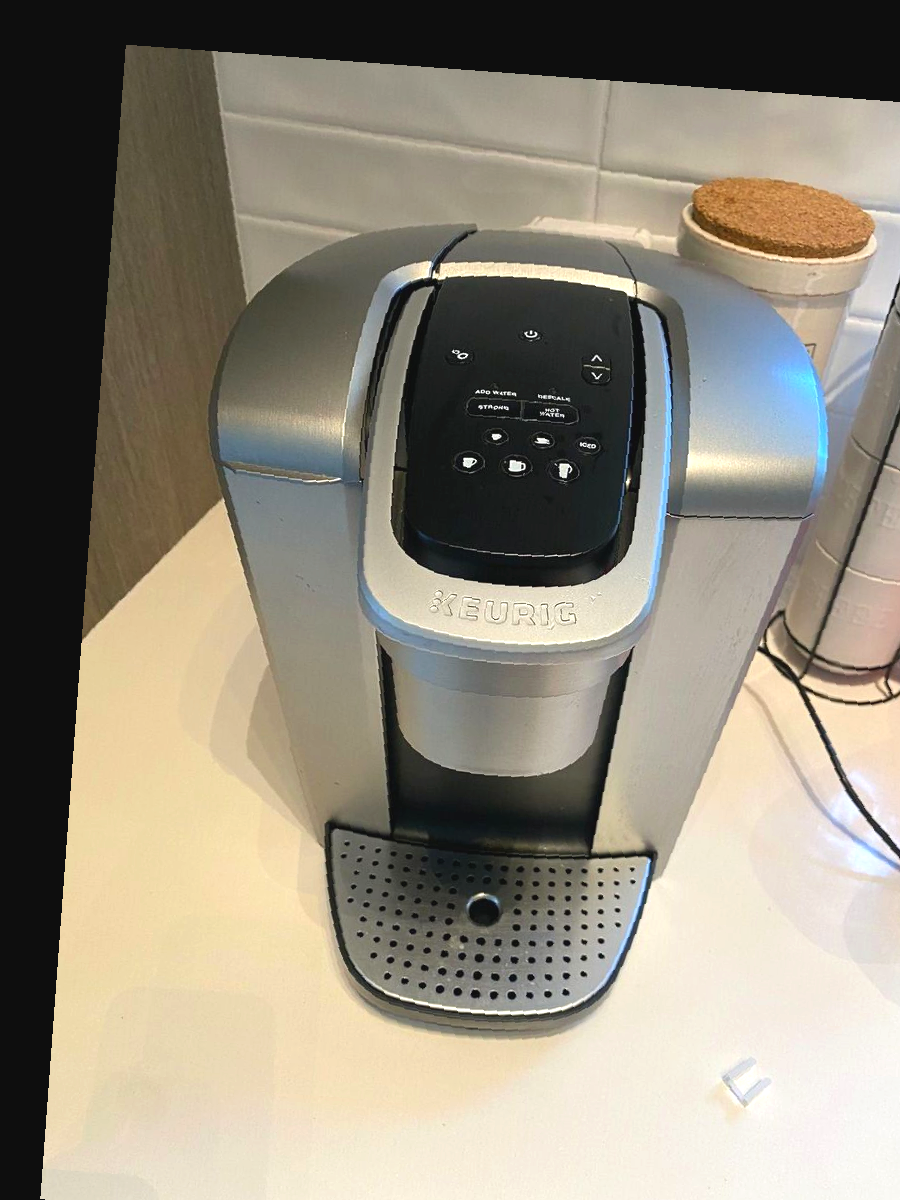10oz: (499, 452, 534, 479)
12oz: (545, 458, 581, 485)
4oz: (464, 395, 523, 421), (482, 425, 512, 448)
6oz: (528, 429, 558, 452)
8oz: (452, 448, 487, 476)
add_water: (464, 372, 523, 398)
coffee_handle: (392, 623, 605, 676)
descale: (523, 375, 582, 402)
hot: (522, 398, 581, 424)
iced: (573, 433, 603, 456)
platform: (463, 889, 506, 931)
power: (518, 325, 544, 344)
water_handle: (218, 453, 343, 491)
